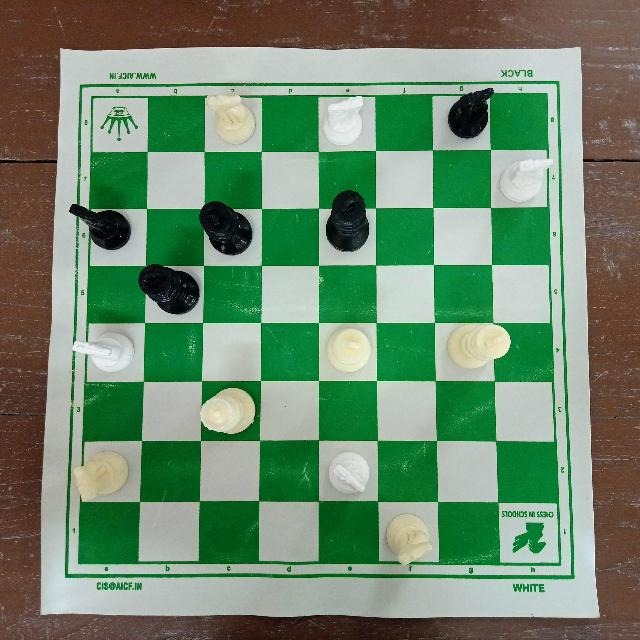black-king: (135, 258, 201, 318), (195, 192, 255, 257), (319, 187, 373, 253)
black-knight: (69, 201, 135, 257), (446, 84, 499, 144)
white-king: (444, 319, 517, 367), (321, 322, 378, 379)
white-knight: (66, 449, 136, 505), (202, 90, 257, 149), (498, 153, 558, 207), (74, 327, 140, 375), (383, 509, 433, 569), (321, 446, 375, 501), (321, 92, 371, 150)
white-queen: (195, 384, 259, 439)
